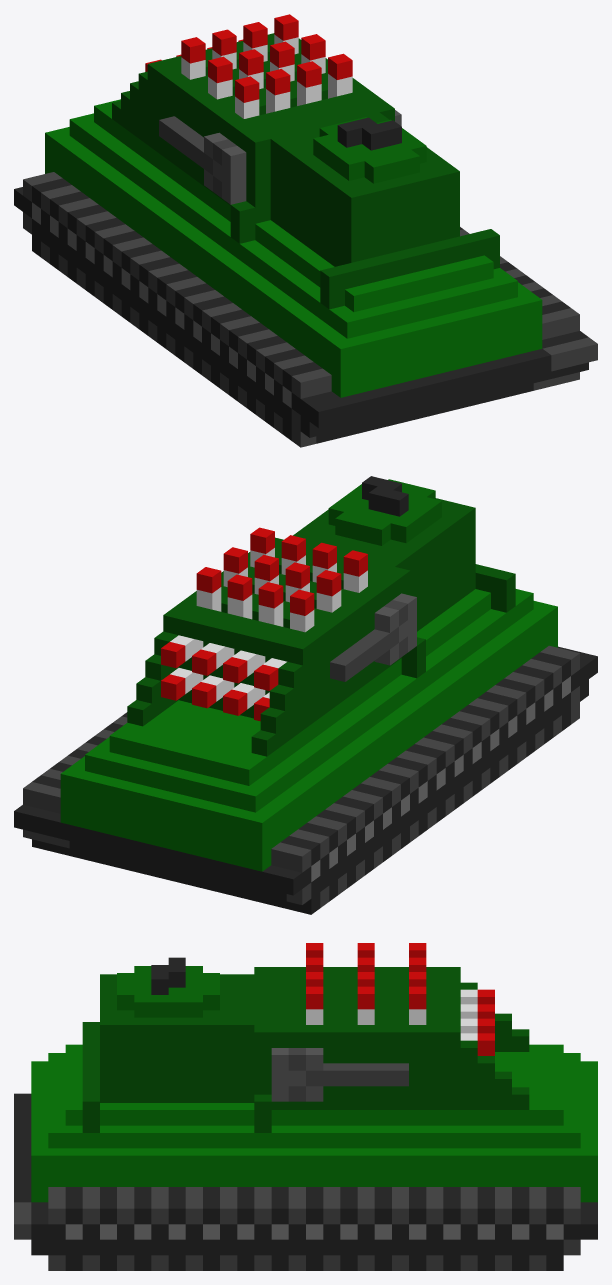
File: misile tank.obj
The picture shows the model from 3 angles, top to bottom: view 1: azimuth 30°, elevation 25°; view 2: azimuth 150°, elevation 25°; view 3: azimuth 270°, elevation 25°; orthographic projection. The views are drawn at different scales.
Size of the model in its own units: 1.8 by 1.5 by 3.4.
1 material, 1 textured.
